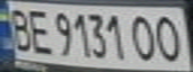1: (103, 10, 130, 61), (69, 9, 90, 58)
3: (87, 10, 109, 60)
9: (48, 8, 75, 57)
B: (3, 3, 36, 53)
E: (24, 7, 54, 56)
O: (151, 11, 190, 63), (127, 11, 163, 63)
